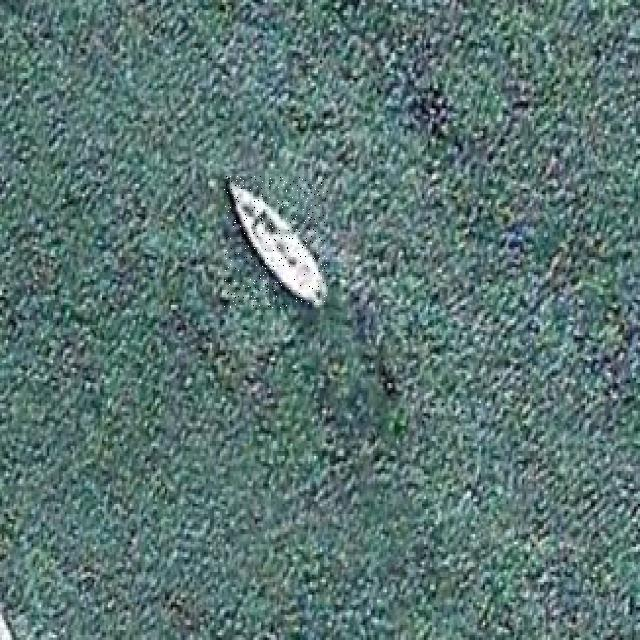boat: (224, 176, 328, 308)
